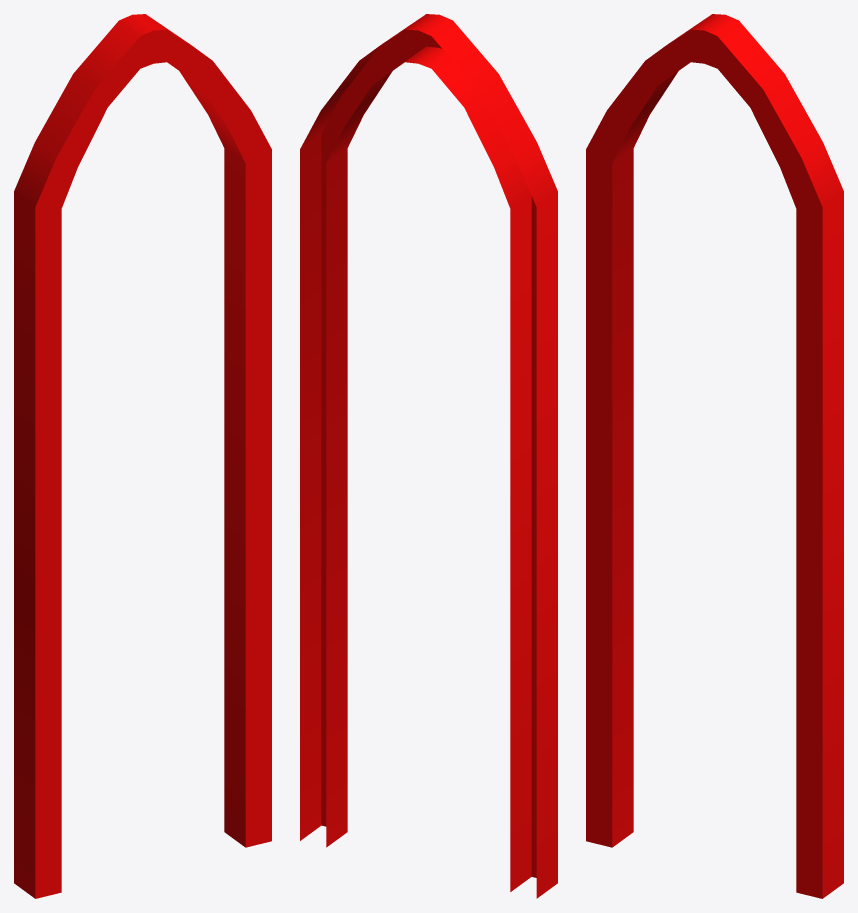
Rendered from part_3_props_mesh_08.fbx.
3 views of the same model, side by side, from view 1: azimuth 30°, elevation 25°; view 2: azimuth 150°, elevation 25°; view 3: azimuth 330°, elevation 25° (orthographic).
Visible parts, largest first — view 1: part_3_bake_mesh_06; view 2: part_3_bake_mesh_06; view 3: part_3_bake_mesh_06.
Part boxes in pixels (x1,y1,x2,y2): part_3_bake_mesh_06: [14, 14, 271, 898]; part_3_bake_mesh_06: [300, 14, 557, 898]; part_3_bake_mesh_06: [586, 14, 843, 898].
Bounding box in the file's own units: 2.94 × 9.97 × 0.4619.
